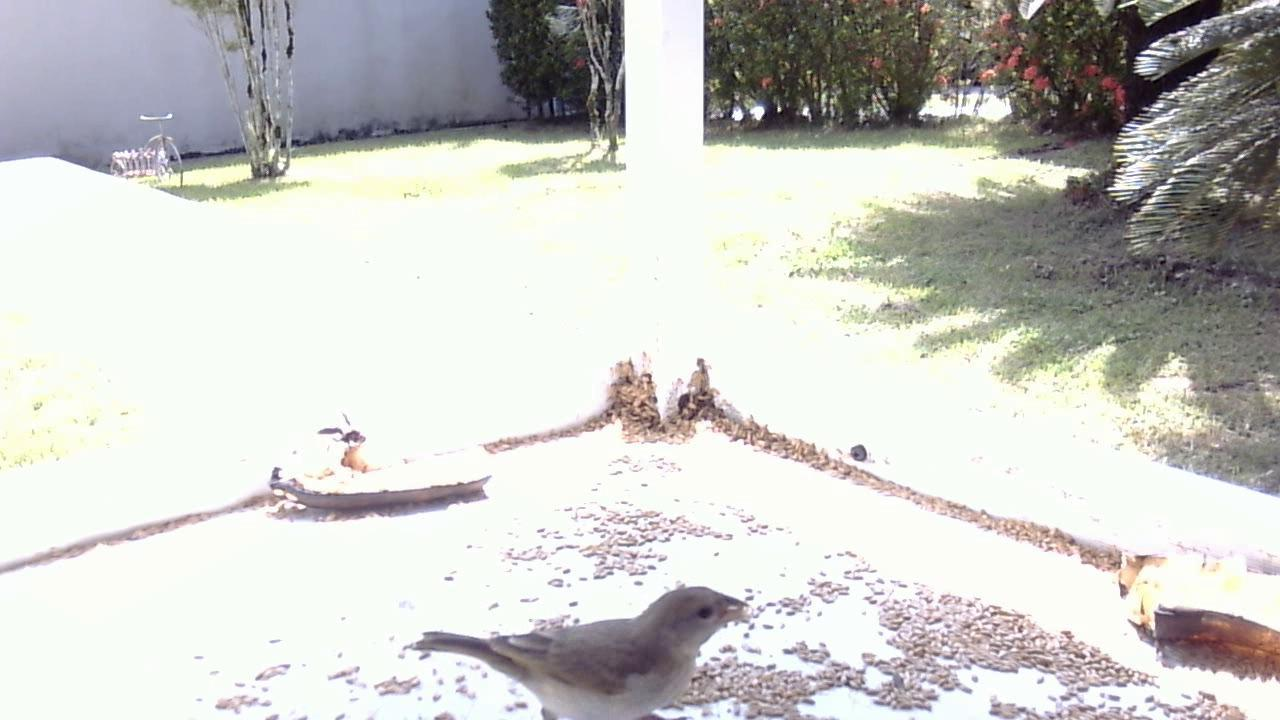canario_do_amazonas: (400, 578, 750, 720)
